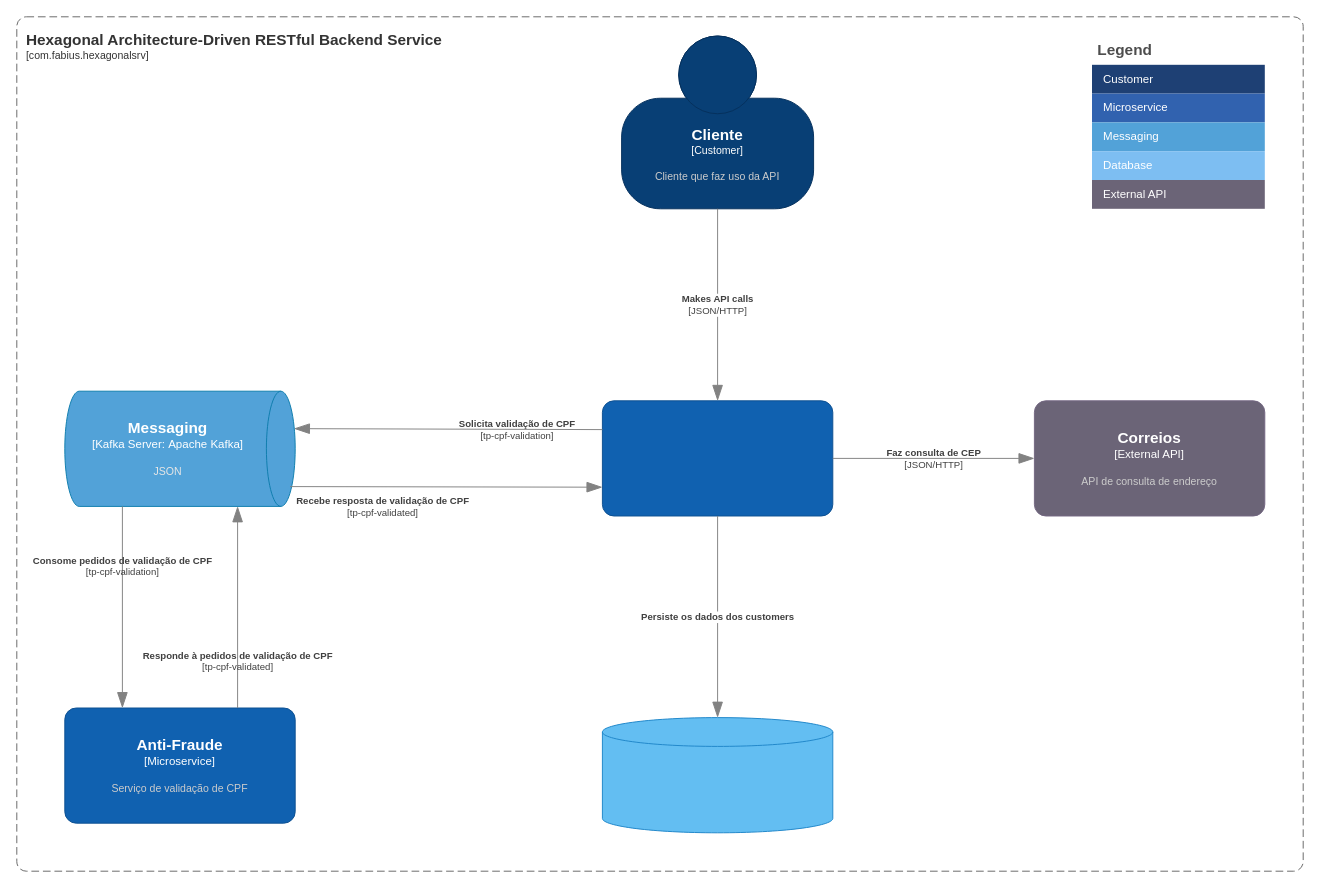
Some shapes in this 1320 by 888 pixel diagram are drawn without their labels. The box of each missing label's shape, as (x1, y1, x2, y2) in pixels:
Database [Container: MongoDB] Base de dados de Customers/Address: (601, 717, 833, 833)
Hexagonal Server [Microservice] Microserviço para gerenciamento de customers: (601, 400, 833, 516)
